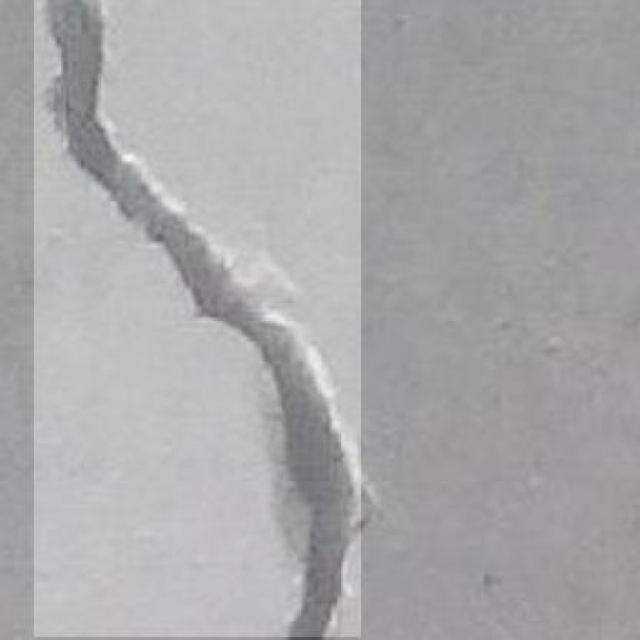Crack: (33, 0, 368, 638)
